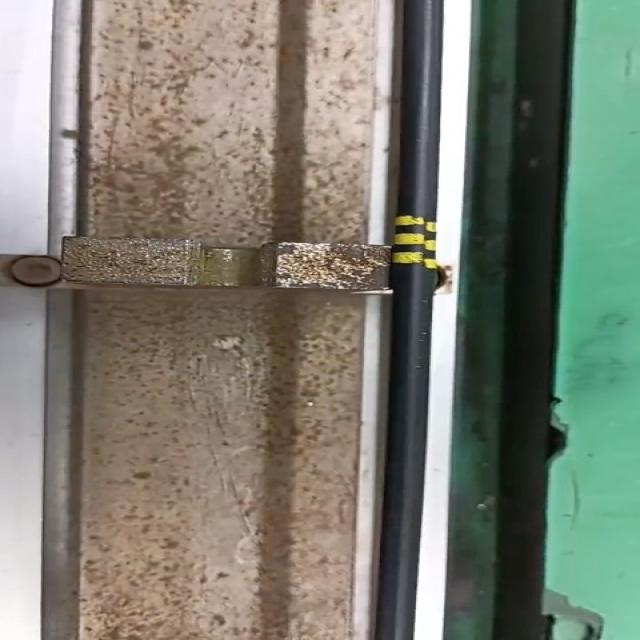yellow: (397, 216, 433, 267)
